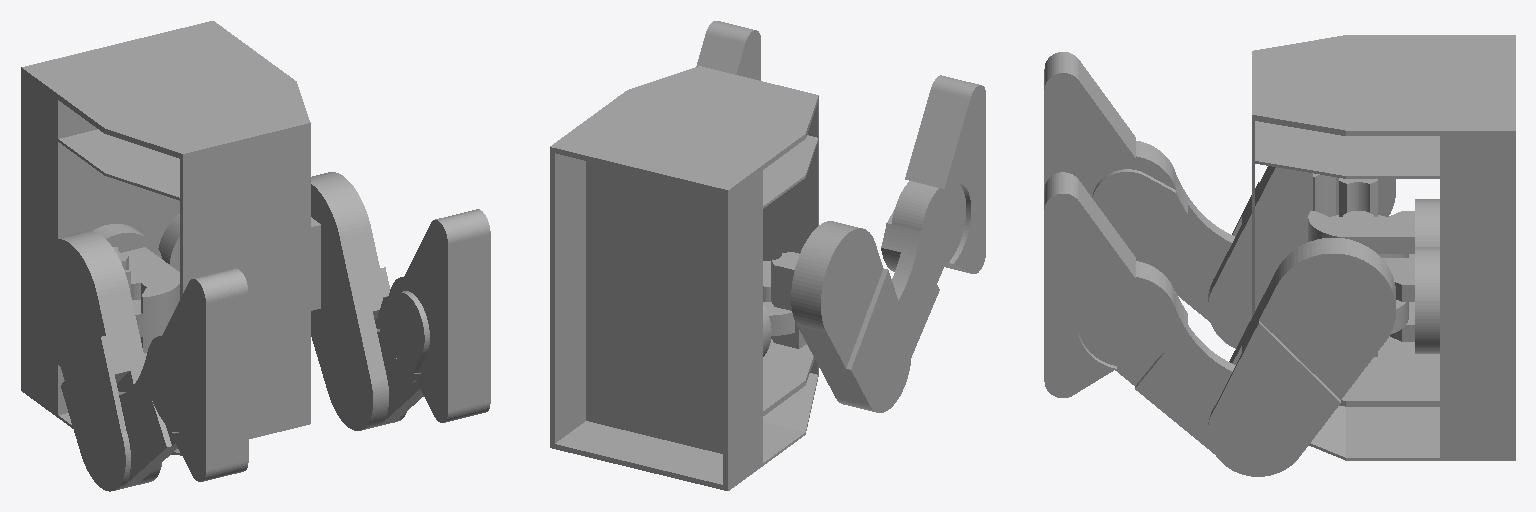
robot.urdf — BipedalWalkerRobot:
<?xml version="1.0"?>
<robot name="BipedalWalkerRobot">
  <material name="silver">
    <color rgba="0.700 0.700 0.700 1.000" />
  </material>
  <transmission name="Revolute1_tran">
    <type>transmission_interface/SimpleTransmission</type>
    <joint name="Revolute1">
      <hardwareInterface>hardware_interface/EffortJointInterface</hardwareInterface>
    </joint>
    <actuator name="Revolute1_actr">
      <hardwareInterface>hardware_interface/EffortJointInterface</hardwareInterface>
      <mechanicalReduction>1</mechanicalReduction>
    </actuator>
  </transmission>
  <transmission name="Revolute 26_tran">
    <type>transmission_interface/SimpleTransmission</type>
    <joint name="Revolute 26">
      <hardwareInterface>hardware_interface/EffortJointInterface</hardwareInterface>
    </joint>
    <actuator name="Revolute 26_actr">
      <hardwareInterface>hardware_interface/EffortJointInterface</hardwareInterface>
      <mechanicalReduction>1</mechanicalReduction>
    </actuator>
  </transmission>
  <transmission name="Revolute 27_tran">
    <type>transmission_interface/SimpleTransmission</type>
    <joint name="Revolute 27">
      <hardwareInterface>hardware_interface/EffortJointInterface</hardwareInterface>
    </joint>
    <actuator name="Revolute 27_actr">
      <hardwareInterface>hardware_interface/EffortJointInterface</hardwareInterface>
      <mechanicalReduction>1</mechanicalReduction>
    </actuator>
  </transmission>
  <transmission name="Revolute 31_tran">
    <type>transmission_interface/SimpleTransmission</type>
    <joint name="Revolute 31">
      <hardwareInterface>hardware_interface/EffortJointInterface</hardwareInterface>
    </joint>
    <actuator name="Revolute 31_actr">
      <hardwareInterface>hardware_interface/EffortJointInterface</hardwareInterface>
      <mechanicalReduction>1</mechanicalReduction>
    </actuator>
  </transmission>
  <transmission name="Revolute 32_tran">
    <type>transmission_interface/SimpleTransmission</type>
    <joint name="Revolute 32">
      <hardwareInterface>hardware_interface/EffortJointInterface</hardwareInterface>
    </joint>
    <actuator name="Revolute 32_actr">
      <hardwareInterface>hardware_interface/EffortJointInterface</hardwareInterface>
      <mechanicalReduction>1</mechanicalReduction>
    </actuator>
  </transmission>
  <transmission name="Revolute 33_tran">
    <type>transmission_interface/SimpleTransmission</type>
    <joint name="Revolute 33">
      <hardwareInterface>hardware_interface/EffortJointInterface</hardwareInterface>
    </joint>
    <actuator name="Revolute 33_actr">
      <hardwareInterface>hardware_interface/EffortJointInterface</hardwareInterface>
      <mechanicalReduction>1</mechanicalReduction>
    </actuator>
  </transmission>
  <transmission name="Revolute 34_tran">
    <type>transmission_interface/SimpleTransmission</type>
    <joint name="Revolute 34">
      <hardwareInterface>hardware_interface/EffortJointInterface</hardwareInterface>
    </joint>
    <actuator name="Revolute 34_actr">
      <hardwareInterface>hardware_interface/EffortJointInterface</hardwareInterface>
      <mechanicalReduction>1</mechanicalReduction>
    </actuator>
  </transmission>
  <transmission name="Revolute 35_tran">
    <type>transmission_interface/SimpleTransmission</type>
    <joint name="Revolute 35">
      <hardwareInterface>hardware_interface/EffortJointInterface</hardwareInterface>
    </joint>
    <actuator name="Revolute 35_actr">
      <hardwareInterface>hardware_interface/EffortJointInterface</hardwareInterface>
      <mechanicalReduction>1</mechanicalReduction>
    </actuator>
  </transmission>
  <transmission name="Revolute 36_tran">
    <type>transmission_interface/SimpleTransmission</type>
    <joint name="Revolute 36">
      <hardwareInterface>hardware_interface/EffortJointInterface</hardwareInterface>
    </joint>
    <actuator name="Revolute 36_actr">
      <hardwareInterface>hardware_interface/EffortJointInterface</hardwareInterface>
      <mechanicalReduction>1</mechanicalReduction>
    </actuator>
  </transmission>
  <transmission name="Revolute 37_tran">
    <type>transmission_interface/SimpleTransmission</type>
    <joint name="Revolute 37">
      <hardwareInterface>hardware_interface/EffortJointInterface</hardwareInterface>
    </joint>
    <actuator name="Revolute 37_actr">
      <hardwareInterface>hardware_interface/EffortJointInterface</hardwareInterface>
      <mechanicalReduction>1</mechanicalReduction>
    </actuator>
  </transmission>
  <gazebo>
    <plugin filename="libgazebo_ros_control.so" name="control" />
  </gazebo>
  <gazebo reference="base_link">
    <material>Gazebo/Silver</material>
    <mu1>0.2</mu1>
    <mu2>0.2</mu2>
    <selfCollide>true</selfCollide>
    <gravity>true</gravity>
  </gazebo>
  <gazebo reference="right_motor_1_1">
    <material>Gazebo/Silver</material>
    <mu1>0.2</mu1>
    <mu2>0.2</mu2>
    <selfCollide>true</selfCollide>
  </gazebo>
  <gazebo reference="left_motor_1_1">
    <material>Gazebo/Silver</material>
    <mu1>0.2</mu1>
    <mu2>0.2</mu2>
    <selfCollide>true</selfCollide>
  </gazebo>
  <gazebo reference="left_motor_2_1">
    <material>Gazebo/Silver</material>
    <mu1>0.2</mu1>
    <mu2>0.2</mu2>
    <selfCollide>true</selfCollide>
  </gazebo>
  <gazebo reference="right_shin_1">
    <material>Gazebo/Silver</material>
    <mu1>0.2</mu1>
    <mu2>0.2</mu2>
    <selfCollide>true</selfCollide>
  </gazebo>
  <gazebo reference="right_foot_1">
    <material>Gazebo/Silver</material>
    <mu1>0.2</mu1>
    <mu2>0.2</mu2>
    <selfCollide>true</selfCollide>
  </gazebo>
  <gazebo reference="right_thight_1">
    <material>Gazebo/Silver</material>
    <mu1>0.2</mu1>
    <mu2>0.2</mu2>
    <selfCollide>true</selfCollide>
  </gazebo>
  <gazebo reference="right_motor_2_1">
    <material>Gazebo/Silver</material>
    <mu1>0.2</mu1>
    <mu2>0.2</mu2>
    <selfCollide>true</selfCollide>
  </gazebo>
  <gazebo reference="left_foot_1">
    <material>Gazebo/Silver</material>
    <mu1>0.2</mu1>
    <mu2>0.2</mu2>
    <selfCollide>true</selfCollide>
  </gazebo>
  <gazebo reference="left_shin_1">
    <material>Gazebo/Silver</material>
    <mu1>0.2</mu1>
    <mu2>0.2</mu2>
    <selfCollide>true</selfCollide>
  </gazebo>
  <gazebo reference="left_thight_1">
    <material>Gazebo/Silver</material>
    <mu1>0.2</mu1>
    <mu2>0.2</mu2>
    <selfCollide>true</selfCollide>
  </gazebo>
  <link name="base_link">
    <inertial>
      <origin rpy="0 0 0" xyz="-5.076426587905222e-07 0.12004859782801987 0.059639999913675676" />
      <mass value="7.541578426007267" />
      <inertia ixx="0.113421" ixy="0.0" ixz="-0.0" iyy="0.109009" iyz="0.00196" izz="0.053362" />
    </inertial>
    <visual>
      <origin rpy="0 0 0" xyz="0 0 0" />
      <geometry>
        <mesh filename="meshes/base_link.stl" scale="0.001 0.001 0.001" />
      </geometry>
      <material name="silver" />
    </visual>
    <collision>
      <origin rpy="0 0 0" xyz="0 0 0" />
      <geometry>
        <mesh filename="meshes/base_link.stl" scale="0.001 0.001 0.001" />
      </geometry>
    </collision>
  </link>
  <link name="right_motor_1_1">
    <inertial>
      <origin rpy="0 0 0" xyz="-0.0008620656378392558 -0.03823971709196573 -1.3877787807814457e-17" />
      <mass value="1.7040755059924255" />
      <inertia ixx="0.002191" ixy="-1.6e-05" ixz="-0.0" iyy="0.001205" iyz="0.0" izz="0.002067" />
    </inertial>
    <visual>
      <origin rpy="0 0 0" xyz="-0.045 -0.155 -0.03" />
      <geometry>
        <mesh filename="meshes/right_motor_1_1.stl" scale="0.001 0.001 0.001" />
      </geometry>
      <material name="silver" />
    </visual>
    <collision>
      <origin rpy="0 0 0" xyz="-0.045 -0.155 -0.03" />
      <geometry>
        <mesh filename="meshes/right_motor_1_1.stl" scale="0.001 0.001 0.001" />
      </geometry>
    </collision>
  </link>
  <link name="left_motor_1_1">
    <inertial>
      <origin rpy="0 0 0" xyz="0.0008621086787050716 -0.03824150149029372 -1.734723475976807e-17" />
      <mass value="1.7039904298384632" />
      <inertia ixx="0.002191" ixy="1.6e-05" ixz="0.0" iyy="0.001205" iyz="-0.0" izz="0.002067" />
    </inertial>
    <visual>
      <origin rpy="0 0 0" xyz="0.045 -0.155 -0.03" />
      <geometry>
        <mesh filename="meshes/left_motor_1_1.stl" scale="0.001 0.001 0.001" />
      </geometry>
      <material name="silver" />
    </visual>
    <collision>
      <origin rpy="0 0 0" xyz="0.045 -0.155 -0.03" />
      <geometry>
        <mesh
          filename="meshes/left_motor_1_1.stl"
          scale="0.001 0.001 0.001" />
      </geometry>
    </collision>
  </link>
  <link name="left_motor_2_1">
    <inertial>
      <origin rpy="0 0 0" xyz="-0.01190893412651018 -0.002798829965549837 -0.018453210857961533" />
      <mass value="1.3567686893206514" />
      <inertia ixx="0.000851" ixy="-9.3e-05" ixz="0.000157" iyy="0.001056" iyz="2.9e-05"
        izz="0.001101" />
    </inertial>
    <visual>
      <origin rpy="0 0 0" xyz="0.0575 -0.085 -0.055" />
      <geometry>
        <mesh
          filename="meshes/left_motor_2_1.stl"
          scale="0.001 0.001 0.001" />
      </geometry>
      <material name="silver" />
    </visual>
    <collision>
      <origin rpy="0 0 0" xyz="0.0575 -0.085 -0.055" />
      <geometry>
        <mesh
          filename="meshes/left_motor_2_1.stl"
          scale="0.001 0.001 0.001" />
      </geometry>
    </collision>
  </link>
  <link name="right_shin_1">
    <inertial>
      <origin rpy="0 0 0" xyz="0.015192078474402265 -0.028054225177912274 0.02117639117169167" />
      <mass value="1.964454150614171" />
      <inertia ixx="0.005636" ixy="-0.000117" ixz="0.000142" iyy="0.002575" iyz="0.001986"
        izz="0.00343" />
    </inertial>
    <visual>
      <origin rpy="0 0 0" xyz="-0.098471 -0.005149 0.044009" />
      <geometry>
        <mesh
          filename="meshes/right_shin_1.stl"
          scale="0.001 0.001 0.001" />
      </geometry>
      <material name="silver" />
    </visual>
    <collision>
      <origin rpy="0 0 0" xyz="-0.098471 -0.005149 0.044009" />
      <geometry>
        <mesh
          filename="meshes/right_shin_1.stl"
          scale="0.001 0.001 0.001" />
      </geometry>
    </collision>
  </link>
  <link name="right_foot_1">
    <inertial>
      <origin rpy="0 0 0" xyz="-0.01499994370037934 -0.028610927229239844 0.018726087871194536" />
      <mass value="3.425309820656728" />
      <inertia ixx="0.008932" ixy="-0.0" ixz="-0.0" iyy="0.006878" iyz="0.000772" izz="0.002831" />
    </inertial>
    <visual>
      <origin rpy="0 0 0" xyz="-0.128471 0.098923 -0.05" />
      <geometry>
        <mesh
          filename="meshes/right_foot_1.stl"
          scale="0.001 0.001 0.001" />
      </geometry>
      <material name="silver" />
    </visual>
    <collision>
      <origin rpy="0 0 0" xyz="-0.128471 0.098923 -0.05" />
      <geometry>
        <mesh
          filename="meshes/right_foot_1.stl"
          scale="0.001 0.001 0.001" />
      </geometry>
    </collision>
  </link>
  <link name="right_thight_1">
    <inertial>
      <origin rpy="0 0 0" xyz="-0.01337105632230666 -0.014540470150579618 -0.026688984787010116" />
      <mass value="3.1405521433815324" />
      <inertia ixx="0.008394" ixy="0.000184" ixz="0.000324" iyy="0.005611" iyz="-0.001673"
        izz="0.003392" />
    </inertial>
    <visual>
      <origin rpy="0 0 0" xyz="-0.128471 -0.064837 -0.060122" />
      <geometry>
        <mesh
          filename="meshes/right_thight_1.stl"
          scale="0.001 0.001 0.001" />
      </geometry>
      <material name="silver" />
    </visual>
    <collision>
      <origin rpy="0 0 0" xyz="-0.128471 -0.064837 -0.060122" />
      <geometry>
        <mesh
          filename="meshes/right_thight_1.stl"
          scale="0.001 0.001 0.001" />
      </geometry>
    </collision>
  </link>
  <link name="right_motor_2_1">
    <inertial>
      <origin rpy="0 0 0" xyz="0.01190893412643921 -0.0027988299655498233 -0.018453210857961554" />
      <mass value="1.3567686893206528" />
      <inertia ixx="0.000851" ixy="9.3e-05" ixz="-0.000157" iyy="0.001056" iyz="2.9e-05"
        izz="0.001101" />
    </inertial>
    <visual>
      <origin rpy="0 0 0" xyz="-0.0575 -0.085 -0.055" />
      <geometry>
        <mesh
          filename="meshes/right_motor_2_1.stl"
          scale="0.001 0.001 0.001" />
      </geometry>
      <material name="silver" />
    </visual>
    <collision>
      <origin rpy="0 0 0" xyz="-0.0575 -0.085 -0.055" />
      <geometry>
        <mesh
          filename="meshes/right_motor_2_1.stl"
          scale="0.001 0.001 0.001" />
      </geometry>
    </collision>
  </link>
  <link name="left_foot_1">
    <inertial>
      <origin rpy="0 0 0" xyz="0.01499994370037934 -0.028610927229239844 0.01872608787119452" />
      <mass value="3.425309820656728" />
      <inertia ixx="0.008932" ixy="0.0" ixz="0.0" iyy="0.006878" iyz="0.000772" izz="0.002831" />
    </inertial>
    <visual>
      <origin rpy="0 0 0" xyz="0.128471 0.098923 -0.05" />
      <geometry>
        <mesh
          filename="meshes/left_foot_1.stl"
          scale="0.001 0.001 0.001" />
      </geometry>
      <material name="silver" />
    </visual>
    <collision>
      <origin rpy="0 0 0" xyz="0.128471 0.098923 -0.05" />
      <geometry>
        <mesh
          filename="meshes/left_foot_1.stl"
          scale="0.001 0.001 0.001" />
      </geometry>
    </collision>
  </link>
  <link name="left_shin_1">
    <inertial>
      <origin rpy="0 0 0" xyz="-0.015192078474402251 -0.028054225177912288 0.021176391171691754" />
      <mass value="1.9644541506141713" />
      <inertia ixx="0.005636" ixy="0.000117" ixz="-0.000142" iyy="0.002575" iyz="0.001986"
        izz="0.00343" />
    </inertial>
    <visual>
      <origin rpy="0 0 0" xyz="0.098471 -0.005149 0.044009" />
      <geometry>
        <mesh
          filename="meshes/left_shin_1.stl"
          scale="0.001 0.001 0.001" />
      </geometry>
      <material name="silver" />
    </visual>
    <collision>
      <origin rpy="0 0 0" xyz="0.098471 -0.005149 0.044009" />
      <geometry>
        <mesh
          filename="meshes/left_shin_1.stl"
          scale="0.001 0.001 0.001" />
      </geometry>
    </collision>
  </link>
  <link name="left_thight_1">
    <inertial>
      <origin rpy="0 0 0" xyz="0.01337105632230666 -0.014540470150579611 -0.02668898478701013" />
      <mass value="3.1405521433815324" />
      <inertia ixx="0.008394" ixy="-0.000184" ixz="-0.000324" iyy="0.005611" iyz="-0.001673"
        izz="0.003392" />
    </inertial>
    <visual>
      <origin rpy="0 0 0" xyz="0.128471 -0.064837 -0.060122" />
      <geometry>
        <mesh
          filename="meshes/left_thight_1.stl"
          scale="0.001 0.001 0.001" />
      </geometry>
      <material name="silver" />
    </visual>
    <collision>
      <origin rpy="0 0 0" xyz="0.128471 -0.064837 -0.060122" />
      <geometry>
        <mesh
          filename="meshes/left_thight_1.stl"
          scale="0.001 0.001 0.001" />
      </geometry>
    </collision>
  </link>
  <joint name="Revolute1" type="continuous">
    <origin rpy="0 0 0" xyz="0.045 0.155 0.03" />
    <parent link="base_link" />
    <child link="right_motor_1_1" />
    <axis xyz="0.0 -1.0 0.0" />
  </joint>
  <joint name="Revolute 26" type="continuous">
    <origin rpy="0 0 0" xyz="-0.045 0.155 0.03" />
    <parent link="base_link" />
    <child link="left_motor_1_1" />
    <axis xyz="0.0 -1.0 0.0" />
  </joint>
  <joint name="Revolute 27" type="continuous">
    <origin rpy="0 0 0" xyz="-0.0125 -0.07 0.025" />
    <parent link="left_motor_1_1" />
    <child link="left_motor_2_1" />
    <axis xyz="0.0 0.0 -1.0" />
  </joint>
  <joint name="Revolute 31" type="continuous">
    <origin rpy="0 0 0" xyz="-0.03 -0.059688 -0.104131" />
    <parent link="right_thight_1" />
    <child link="right_shin_1" />
    <axis xyz="1.0 0.0 0.0" />
  </joint>
  <joint name="Revolute 32" type="continuous">
    <origin rpy="0 0 0" xyz="0.03 -0.104072 0.094009" />
    <parent link="right_shin_1" />
    <child link="right_foot_1" />
    <axis xyz="1.0 0.0 0.0" />
  </joint>
  <joint name="Revolute 33" type="continuous">
    <origin rpy="0 0 0" xyz="0.070971 -0.020163 0.005122" />
    <parent link="right_motor_2_1" />
    <child link="right_thight_1" />
    <axis xyz="1.0 0.0 0.0" />
  </joint>
  <joint name="Revolute 34" type="continuous">
    <origin rpy="0 0 0" xyz="0.0125 -0.07 0.025" />
    <parent link="right_motor_1_1" />
    <child link="right_motor_2_1" />
    <axis xyz="0.0 0.0 1.0" />
  </joint>
  <joint name="Revolute 35" type="continuous">
    <origin rpy="0 0 0" xyz="-0.03 -0.104072 0.094009" />
    <parent link="left_shin_1" />
    <child link="left_foot_1" />
    <axis xyz="-1.0 0.0 0.0" />
  </joint>
  <joint name="Revolute 36" type="continuous">
    <origin rpy="0 0 0" xyz="0.03 -0.059688 -0.104131" />
    <parent link="left_thight_1" />
    <child link="left_shin_1" />
    <axis xyz="1.0 0.0 0.0" />
  </joint>
  <joint name="Revolute 37" type="continuous">
    <origin rpy="0 0 0" xyz="-0.070971 -0.020163 0.005122" />
    <parent link="left_motor_2_1" />
    <child link="left_thight_1" />
    <axis xyz="-1.0 0.0 0.0" />
  </joint>
</robot>

--- Facts derived from the render (not from the file) ---
The picture shows the robot from 3 angles, left to right: view 1: azimuth 30°, elevation 25°; view 2: azimuth 150°, elevation 25°; view 3: azimuth 270°, elevation 25°; orthographic projection.
Model BipedalWalkerRobot with 11 links and 10 joints (10 continuous), rooted at base_link, posed every joint at zero.
Visible links, largest first — view 1: base_link, left_thight_1, left_foot_1, right_foot_1, right_thight_1, right_shin_1, left_motor_1_1, left_shin_1, left_motor_2_1, right_motor_2_1, right_motor_1_1; view 2: base_link, left_thight_1, left_foot_1, left_shin_1, right_foot_1, left_motor_2_1, left_motor_1_1; view 3: base_link, right_thight_1, right_foot_1, left_shin_1, left_foot_1, right_shin_1, left_thight_1, left_motor_1_1, right_motor_1_1, left_motor_2_1.
Link boxes in pixels (x1=…): base_link: x1=21, y1=21, x2=310, y2=455; left_thight_1: x1=39, y1=231, x2=144, y2=491; left_foot_1: x1=146, y1=268, x2=248, y2=481; right_foot_1: x1=389, y1=209, x2=490, y2=422; right_thight_1: x1=311, y1=172, x2=406, y2=422; right_shin_1: x1=324, y1=291, x2=429, y2=430; left_motor_1_1: x1=93, y1=224, x2=179, y2=352; left_shin_1: x1=118, y1=356, x2=177, y2=489; left_motor_2_1: x1=67, y1=247, x2=178, y2=336; right_motor_2_1: x1=311, y1=217, x2=320, y2=310; right_motor_1_1: x1=158, y1=214, x2=179, y2=271; base_link: x1=550, y1=66, x2=818, y2=490; left_thight_1: x1=791, y1=221, x2=911, y2=412; left_foot_1: x1=892, y1=75, x2=985, y2=273; left_shin_1: x1=835, y1=209, x2=945, y2=410; right_foot_1: x1=696, y1=21, x2=760, y2=80; left_motor_2_1: x1=763, y1=252, x2=851, y2=348; left_motor_1_1: x1=708, y1=261, x2=771, y2=356; base_link: x1=1252, y1=35, x2=1515, y2=460; right_thight_1: x1=1208, y1=238, x2=1395, y2=476; right_foot_1: x1=1044, y1=172, x2=1177, y2=397; left_shin_1: x1=1092, y1=169, x2=1277, y2=348; left_foot_1: x1=1044, y1=52, x2=1175, y2=196; right_shin_1: x1=1115, y1=292, x2=1235, y2=453; left_thight_1: x1=1213, y1=166, x2=1395, y2=310; left_motor_1_1: x1=1308, y1=199, x2=1439, y2=257; right_motor_1_1: x1=1382, y1=247, x2=1439, y2=353; left_motor_2_1: x1=1308, y1=173, x2=1408, y2=257.
Size in the robot's own frame: 0.2669 by 0.375 by 0.29 metres.
Meshes: 11 distinct files referenced, 11 mesh visuals loaded (11 binary STL).